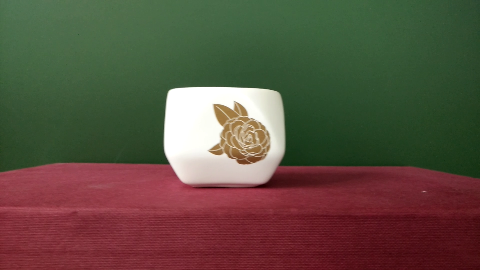flower: (203, 96, 272, 167)
